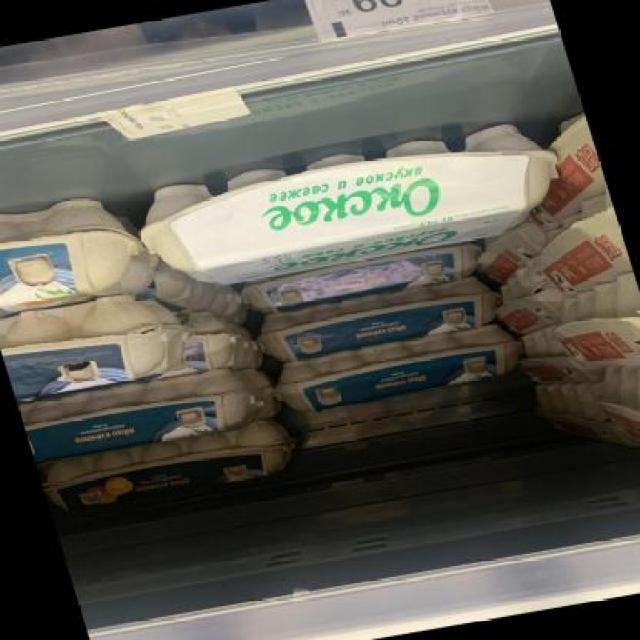egg: (125, 117, 572, 296), (37, 418, 306, 520), (18, 362, 284, 463), (248, 271, 514, 367), (272, 324, 532, 418), (0, 281, 198, 400), (232, 241, 491, 316), (0, 189, 151, 317)
